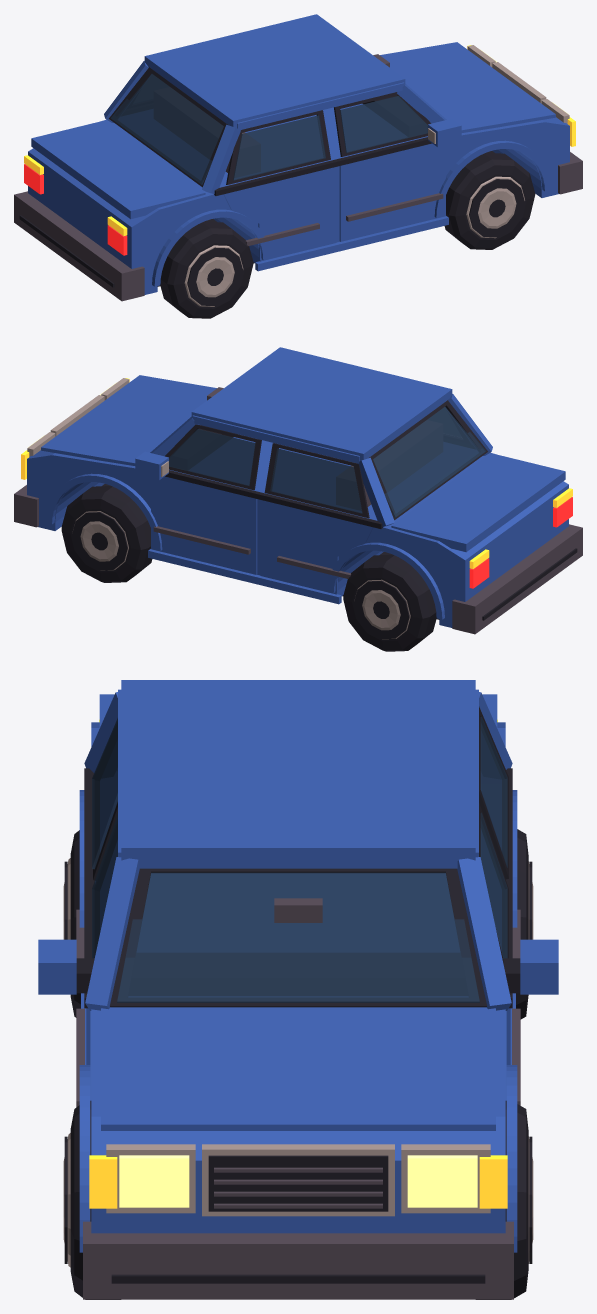
3 views of the same model, one above another, from view 1: azimuth 30°, elevation 25°; view 2: azimuth 150°, elevation 25°; view 3: azimuth 270°, elevation 25° (orthographic). The views are drawn at different scales.
Visible parts, largest first — view 1: body_pal_policeBlue, doorL_pal_policeBlue, doorRearL_pal_policeBlue, body_pal_backpackTeal, wheelRL_pal_uiDark, wheelFL_pal_uiDark, body_pal_asphalt, doorRearL_pal_backpackTeal, body_pal_uiDark, doorL_pal_backpackTeal, wheelRL_pal_sidewalk, wheelFL_pal_sidewalk (+7 smaller); view 2: body_pal_policeBlue, doorR_pal_policeBlue, doorRearR_pal_policeBlue, body_pal_backpackTeal, wheelRR_pal_uiDark, wheelFR_pal_uiDark, body_pal_asphalt, doorRearR_pal_backpackTeal, body_pal_uiDark, doorR_pal_backpackTeal, doorRearR_pal_uiDark, wheelFR_pal_sidewalk (+7 smaller); view 3: body_pal_policeBlue, body_pal_backpackTeal, body_pal_asphalt, body_pal_uiDark, body_pal_sidewalk, lightsFront_emi_windowGlow, lightsFront_emi_schoolBusYellow, wheelFR_pal_uiDark, wheelFL_pal_uiDark, doorL_pal_policeBlue, doorR_pal_policeBlue, doorRearL_pal_backpackTeal (+7 smaller).
Part boxes in pixels (x1,y1,x2,y2): body_pal_policeBlue: (28,14,569,294); doorL_pal_policeBlue: (339,118,461,241); doorRearL_pal_policeBlue: (223,167,336,261); body_pal_backpackTeal: (111,74,223,184); wheelRL_pal_uiDark: (160,221,253,318); wheelFL_pal_uiDark: (444,153,535,249); body_pal_asphalt: (14,54,582,301); doorRearL_pal_backpackTeal: (233,115,325,180); body_pal_uiDark: (19,67,494,287); doorL_pal_backpackTeal: (340,96,427,152); wheelRL_pal_sidewalk: (184,245,243,306); wheelFL_pal_sidewalk: (466,176,524,238); body_pal_policeBlue: (27,347,568,627); doorR_pal_policeBlue: (135,451,257,574); doorRearR_pal_policeBlue: (260,500,373,594); body_pal_backpackTeal: (373,407,485,517); wheelRR_pal_uiDark: (343,554,436,651); wheelFR_pal_uiDark: (61,486,152,582); body_pal_asphalt: (14,387,582,634); doorRearR_pal_backpackTeal: (270,448,362,513); body_pal_uiDark: (102,400,577,620); doorR_pal_backpackTeal: (169,429,255,485); doorRearR_pal_uiDark: (264,443,369,518); wheelFR_pal_sidewalk: (72,511,128,570); body_pal_policeBlue: (79,680,517,1252); body_pal_backpackTeal: (117,872,479,1002); body_pal_asphalt: (83,898,513,1299); body_pal_uiDark: (84,768,512,1283); body_pal_sidewalk: (106,1144,490,1216); lightsFront_emi_windowGlow: (119,1155,477,1207); lightsFront_emi_schoolBusYellow: (89,1155,507,1208); wheelFR_pal_uiDark: (476,1100,532,1299); wheelFL_pal_uiDark: (64,1100,120,1299); doorL_pal_policeBlue: (38,939,90,1064); doorR_pal_policeBlue: (506,939,558,1064); doorRearL_pal_backpackTeal: (92,718,117,869).
Size of the model in its own units: 4.45 by 1.68 by 2.16.
